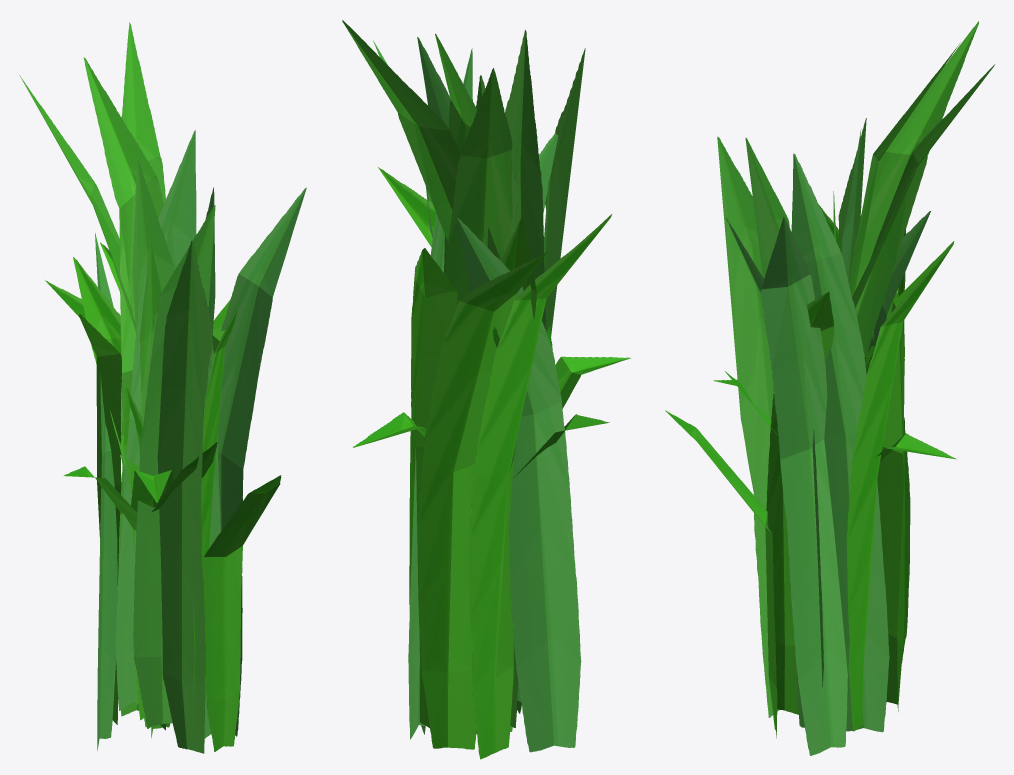
Rendered from grasscollection1.fbx.
3 renders of one model, left to right at view 1: azimuth 30°, elevation 25°; view 2: azimuth 150°, elevation 25°; view 3: azimuth 270°, elevation 25°, orthographic. The views are drawn at different scales.
Parts seen in each view (by area): view 1: grass_co_002, grass_co_004, grass_co_005, grass007, grass009, grass_co_006, grass008, grass006, grass_co_001, grass_co_003, grass004, grass001 (+1 smaller); view 2: grass_co_001, grass_co_005, grass_co_006, grass_co_002, grass_co_004, grass_co_003, grass009, grass007, grass006; view 3: grass_co_002, grass_co_001, grass_co_003, grass_co_005, grass_co_004, grass009, grass_co_006, grass008, grass007.
Part boxes in pixels (left/top/right/bottom): grass_co_002: left=19, top=75, right=306, bottom=753; grass_co_004: left=117, top=22, right=215, bottom=726; grass_co_005: left=95, top=233, right=238, bottom=750; grass007: left=115, top=130, right=196, bottom=710; grass009: left=83, top=57, right=163, bottom=694; grass_co_006: left=79, top=314, right=217, bottom=728; grass008: left=132, top=159, right=174, bottom=705; grass006: left=73, top=257, right=145, bottom=720; grass_co_001: left=45, top=187, right=215, bottom=725; grass_co_003: left=63, top=242, right=220, bottom=738; grass004: left=140, top=241, right=161, bottom=426; grass001: left=123, top=387, right=143, bottom=497; grass_co_001: left=408, top=48, right=630, bottom=749; grass_co_005: left=353, top=167, right=581, bottom=752; grass_co_006: left=469, top=214, right=611, bottom=759; grass_co_002: left=373, top=40, right=585, bottom=734; grass_co_004: left=342, top=20, right=545, bottom=727; grass_co_003: left=409, top=132, right=609, bottom=727; grass009: left=435, top=33, right=500, bottom=273; grass007: left=417, top=37, right=520, bottom=701; grass006: left=501, top=217, right=536, bottom=319; grass_co_002: left=665, top=21, right=978, bottom=755; grass_co_001: left=713, top=153, right=905, bottom=732; grass_co_003: left=726, top=218, right=954, bottom=731; grass_co_005: left=766, top=211, right=956, bottom=714; grass_co_004: left=745, top=64, right=994, bottom=308; grass009: left=848, top=42, right=960, bottom=296; grass_co_006: left=725, top=204, right=910, bottom=663; grass008: left=838, top=118, right=866, bottom=280; grass007: left=842, top=129, right=861, bottom=282.
Bounding box in the file's own units: 10.96 × 30.99 × 13.63.
Materials: 4 (4 with a texture image).
